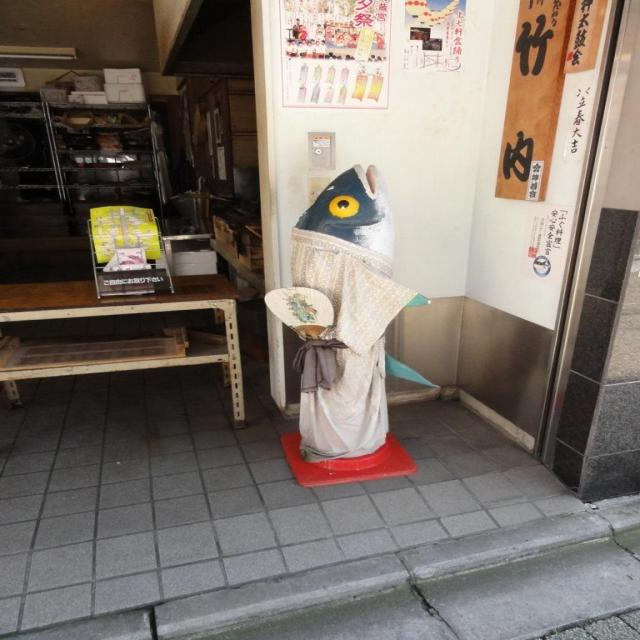Table: (0, 279, 273, 424)
